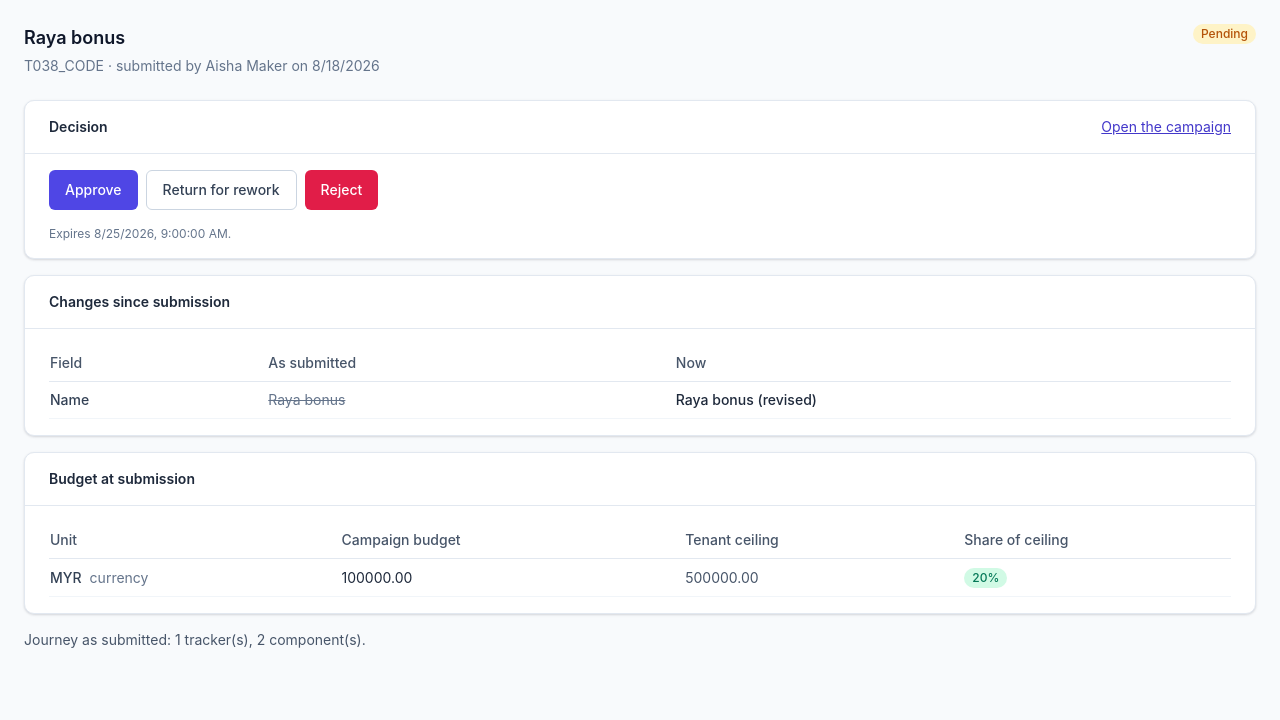
T-038 · ApprovalDetailPage — the three decisions › shows a server-side refusal inside the dialog rather than swallowing it
This screenshot has width=1280, height=720.
Click the button "Approve": (93,190) [49, 170, 138, 210]
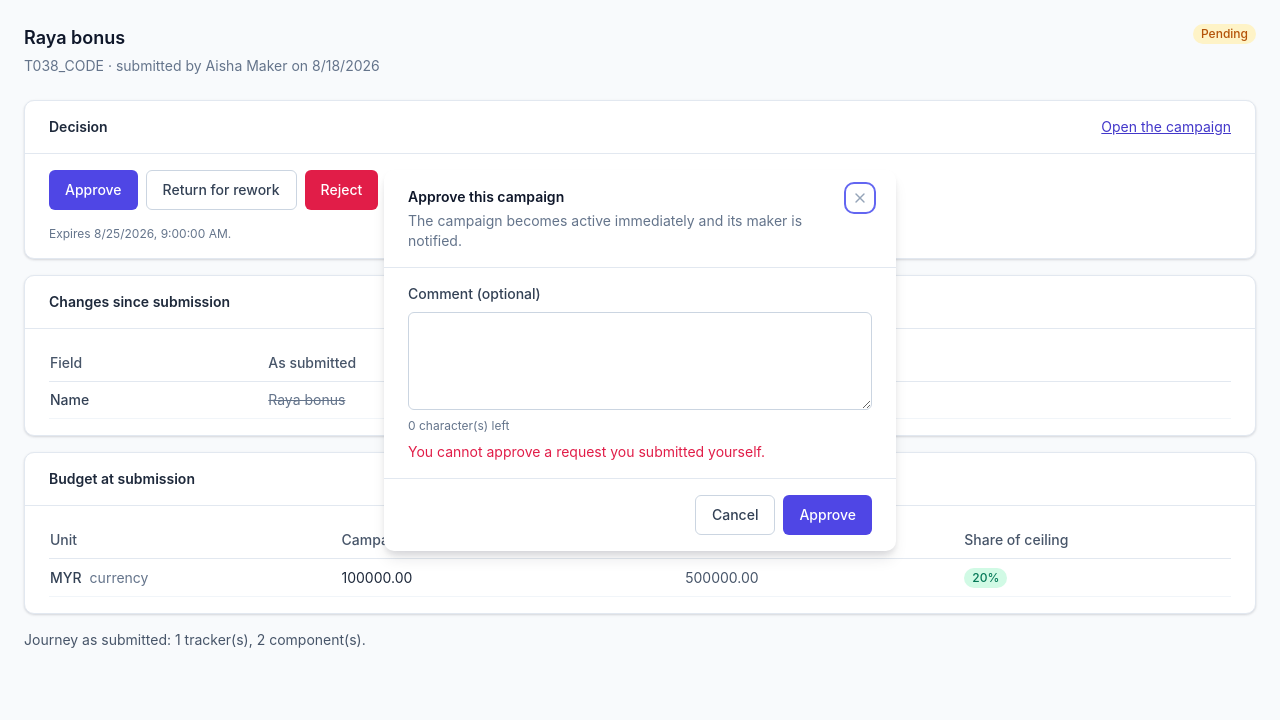
Now the text "You cannot approve a request you submitted yourself." is shown, box [408, 442, 765, 460]
